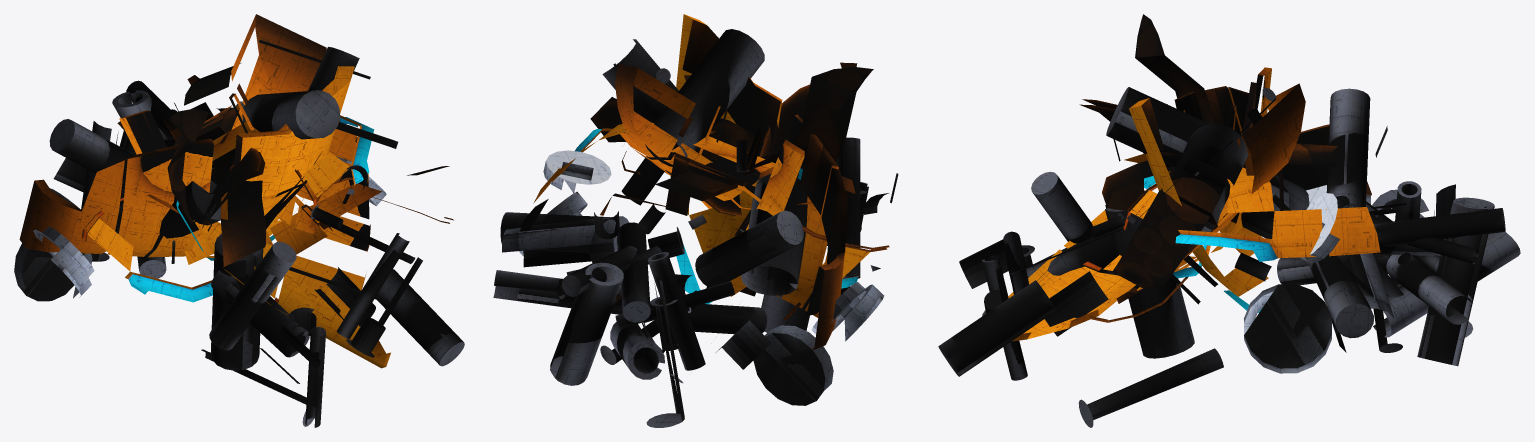
The model's file is MonsterA_die14.obj.
3 renders of one model, left to right at view 1: azimuth 30°, elevation 25°; view 2: azimuth 150°, elevation 25°; view 3: azimuth 270°, elevation 25°, orthographic. The views are drawn at different scales.
Visible parts, largest first — view 1: Box001; view 2: Box001; view 3: Box001.
Boxes of the visible parts, left/top/right/bottom form: Box001: left=14, top=14, right=464, bottom=427; Box001: left=493, top=14, right=898, bottom=427; Box001: left=938, top=14, right=1520, bottom=427.
Bounding box in the file's own units: 262 × 244 × 351.
1 material, 1 textured.
